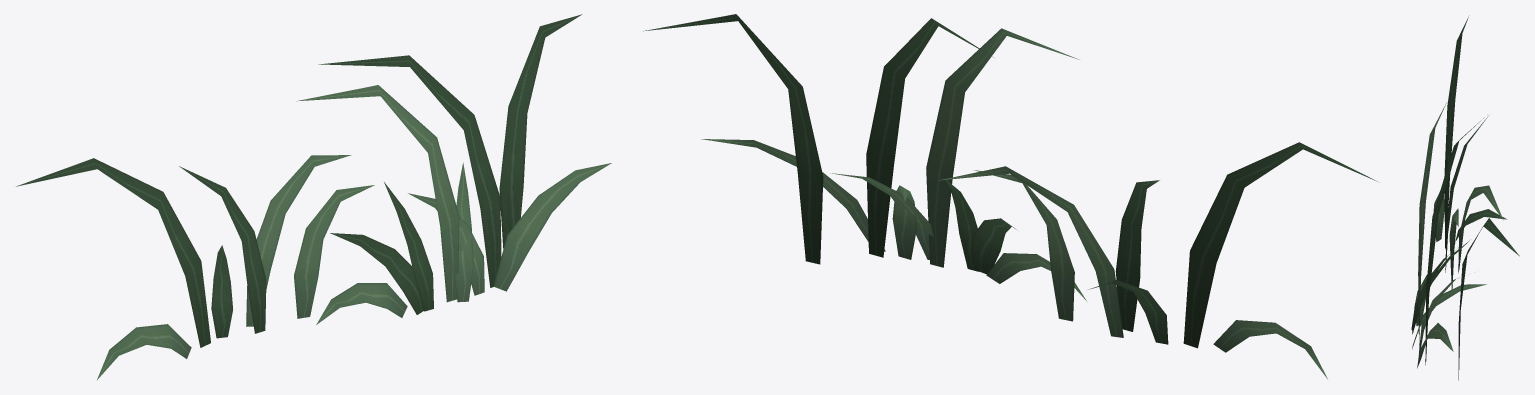
File: grass_tuft_far.glb
The picture shows the model from 3 angles, left to right: view 1: azimuth 30°, elevation 25°; view 2: azimuth 150°, elevation 25°; view 3: azimuth 270°, elevation 25°; orthographic projection. The views are drawn at different scales.
Parts seen in each view (by area): view 1: grass_tuft_lod1; view 2: grass_tuft_lod1; view 3: grass_tuft_lod1.
Part boxes in pixels (x1,y1,x2,y2): grass_tuft_lod1: (16,14,611,379); grass_tuft_lod1: (643,14,1377,379); grass_tuft_lod1: (1411,15,1519,380).
Size of the model in its own units: 0.8814 by 0.334 by 0.1643.
Materials: 1 (1 with a texture image).
